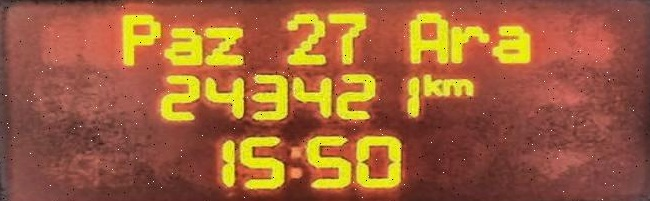0: (356, 131, 405, 190)
1: (399, 72, 422, 121), (214, 134, 235, 186)
2: (154, 73, 199, 125), (336, 68, 378, 119), (284, 10, 324, 63)
3: (247, 68, 289, 120)
4: (292, 71, 337, 118), (201, 72, 242, 119)
5: (237, 131, 287, 191), (305, 133, 354, 190)
7: (324, 10, 369, 64)
X: (403, 10, 446, 63), (117, 10, 159, 63), (201, 23, 245, 66), (491, 21, 533, 65), (160, 22, 201, 65), (447, 22, 488, 63), (284, 142, 306, 187), (442, 75, 474, 98), (421, 71, 443, 97)
